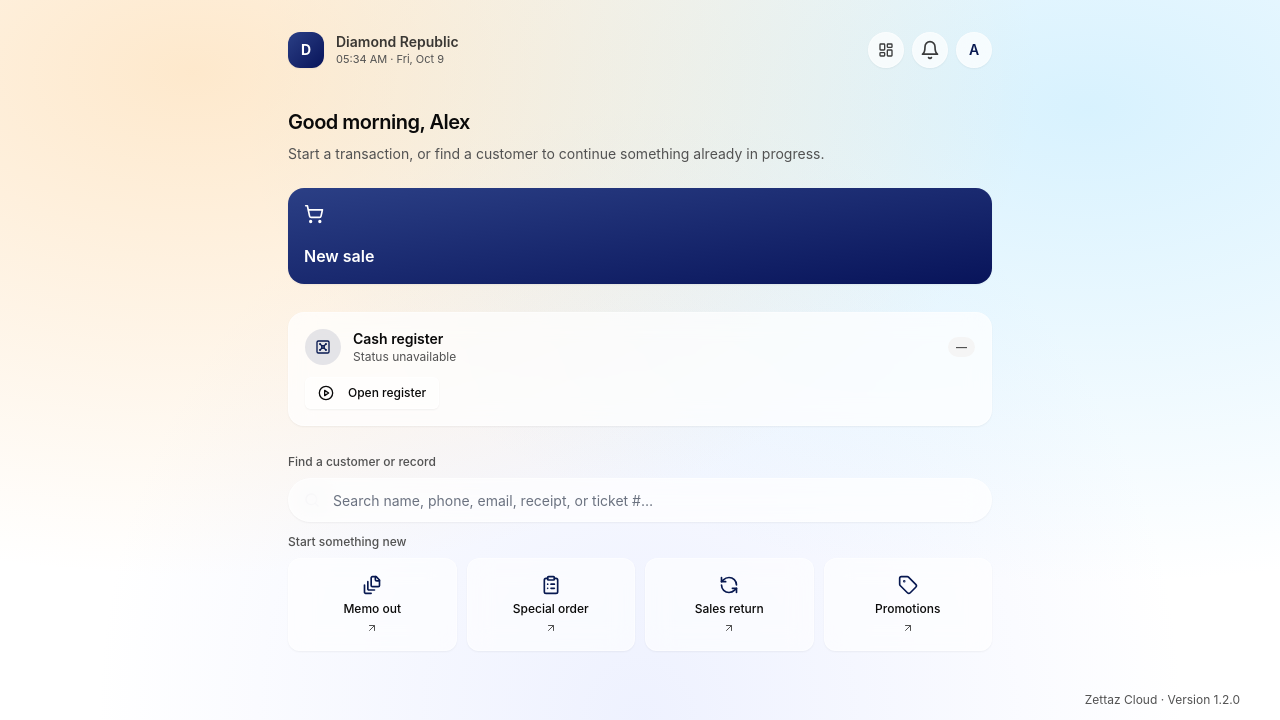
SalesHubPage › shows the Dashboard link in the user menu for a tenant admin
Click the button named "User menu". click: (974, 50)
box: [956, 32, 992, 68]
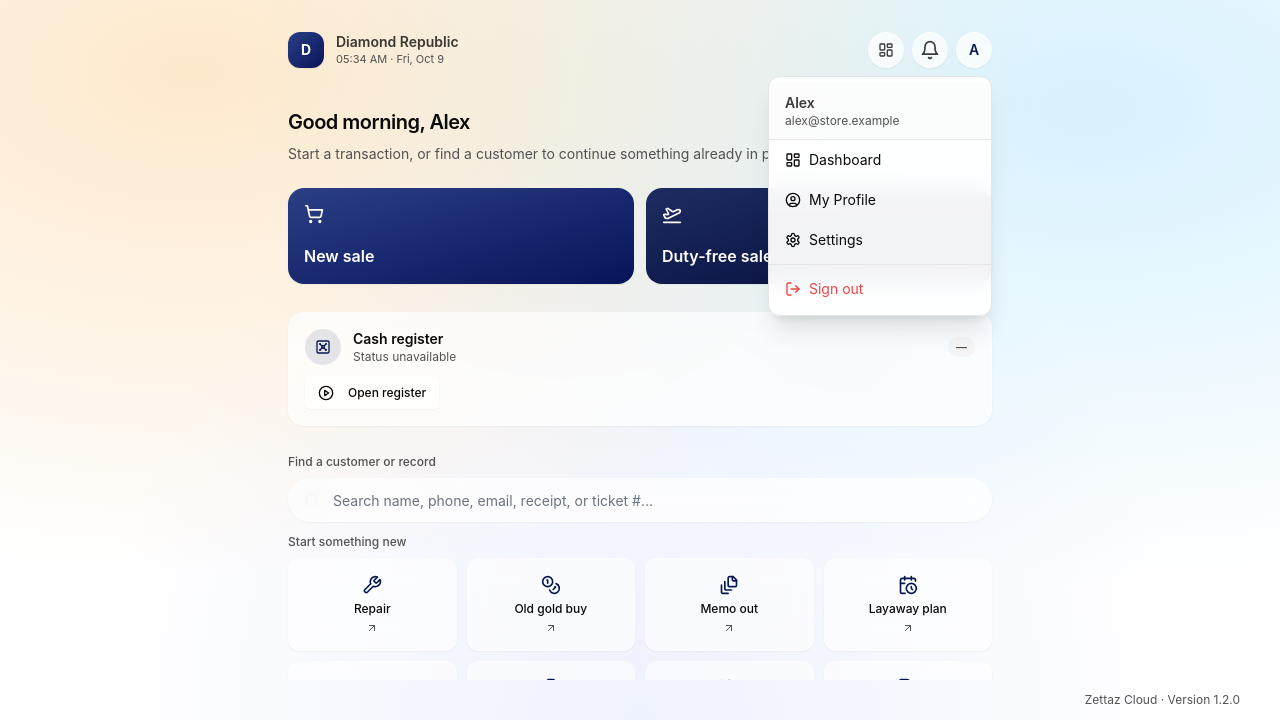
Now the link "Dashboard" is shown, box [785, 151, 881, 168]
